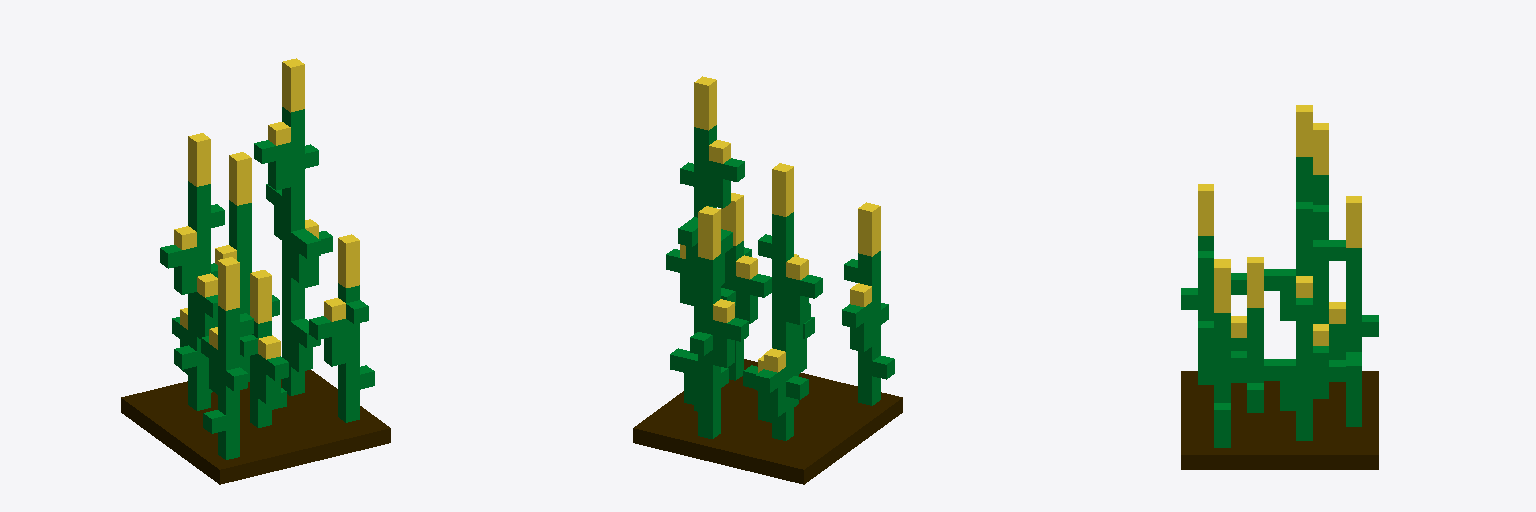
3 renders of one model, left to right at view 1: azimuth 30°, elevation 25°; view 2: azimuth 150°, elevation 25°; view 3: azimuth 270°, elevation 25°, orthographic.
Parts seen in each view (by area): view 1: Matrix_5; view 2: Matrix_5; view 3: Matrix_5.
Boxes of the visible parts, box(x1,y1,x2,y2) form: Matrix_5: box(121, 58, 390, 484); Matrix_5: box(633, 76, 902, 484); Matrix_5: box(1181, 105, 1378, 469).
Bounding box in the file's own units: 12 × 23 × 12.
Materials: 1 (1 with a texture image).